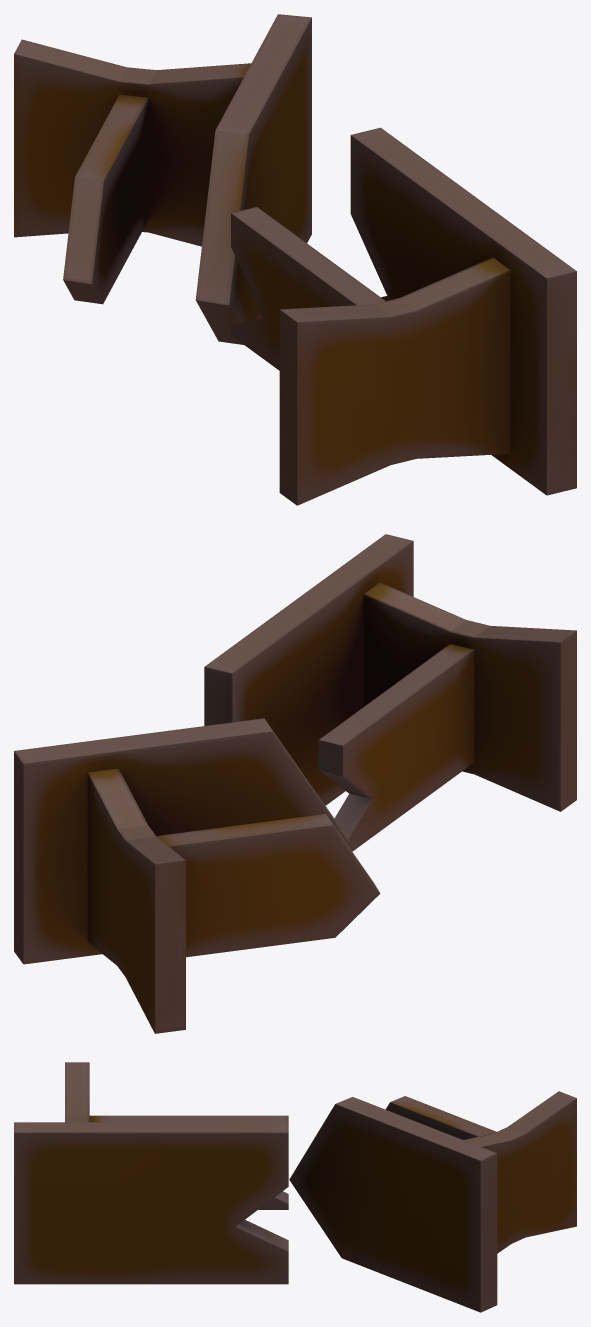
The model's file is bankK.fbx.
3 views of the same model, one above another, from view 1: azimuth 30°, elevation 25°; view 2: azimuth 150°, elevation 25°; view 3: azimuth 270°, elevation 25° (orthographic). The views are drawn at different scales.
Visible parts, largest first — view 1: Cube.043; view 2: Cube.043; view 3: Cube.043.
Boxes of the visible parts, left/top/right/bottom form: Cube.043: left=14, top=14, right=576, bottom=505; Cube.043: left=14, top=534, right=576, bottom=1033; Cube.043: left=14, top=1062, right=576, bottom=1312.
Size of the model in its own units: 257 by 171 by 555.
